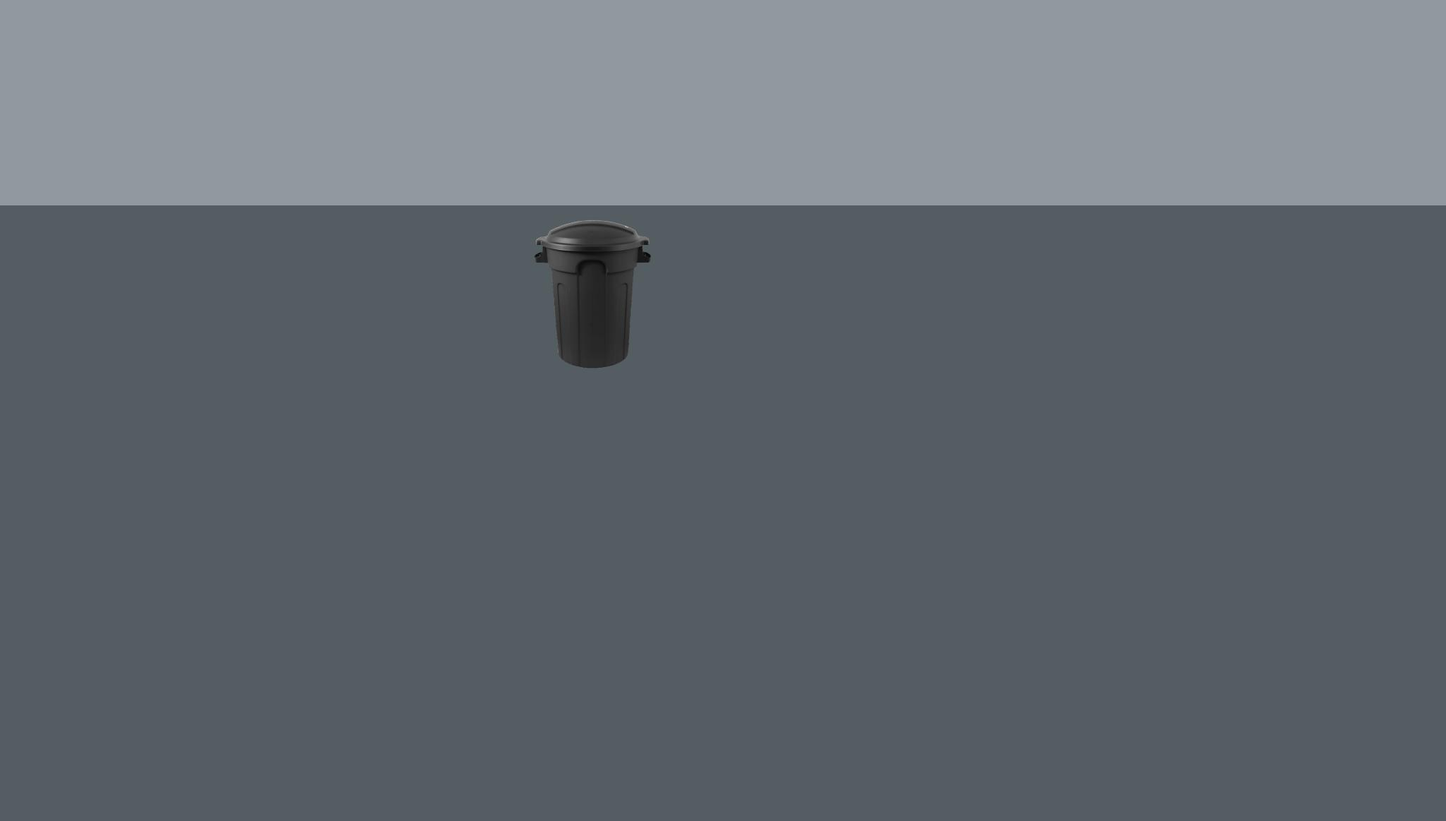garbage container: (532, 218, 653, 370)
